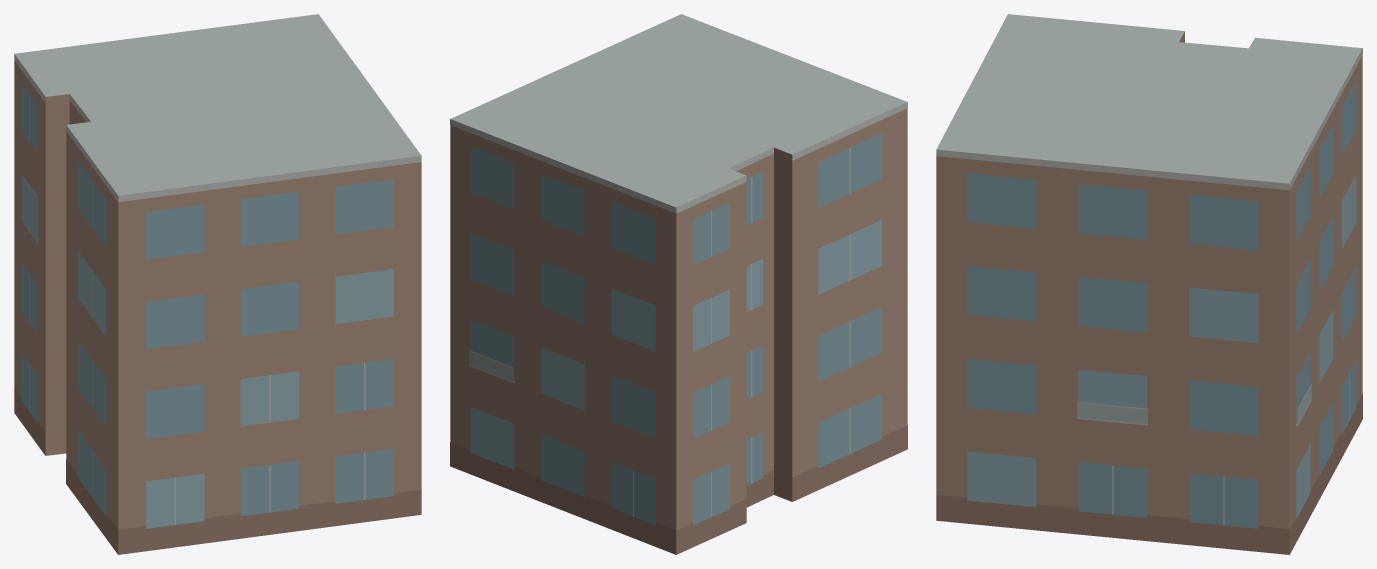
File: survey-upis-32658070.glb
3 views of the same model, side by side, from view 1: azimuth 30°, elevation 25°; view 2: azimuth 150°, elevation 25°; view 3: azimuth 270°, elevation 25° (orthographic). The views are drawn at different scales.
Parts seen in each view (by area): view 1: survey-upis-32658070.tmp; view 2: survey-upis-32658070.tmp; view 3: survey-upis-32658070.tmp.
Part boxes in pixels (bbox=[...]): survey-upis-32658070.tmp: bbox=[14, 14, 421, 554]; survey-upis-32658070.tmp: bbox=[450, 14, 907, 554]; survey-upis-32658070.tmp: bbox=[936, 14, 1362, 554].
Size of the model in its own units: 13.55 by 13.8 by 14.38.
